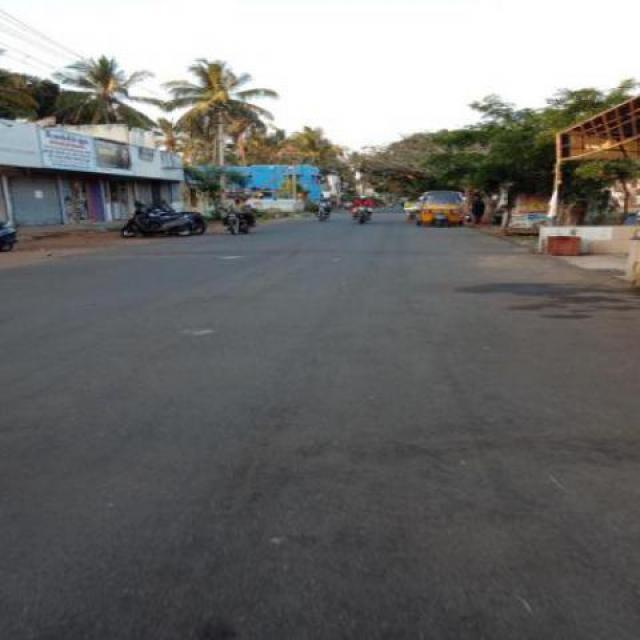Pothole: (172, 314, 218, 342)
Unmarked Bump: (64, 246, 554, 261)
